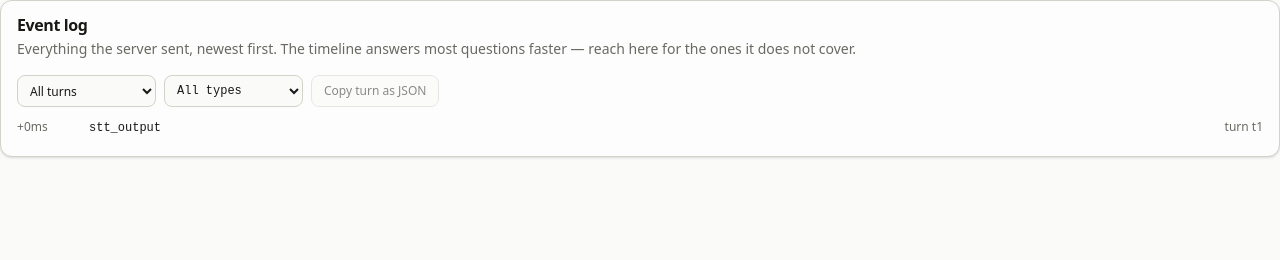
it: EventLog › expands one event's payload as JSON
This screenshot has width=1280, height=260.
What coordinates should you click on to do the following:
click the button "+0ms stt_output turn t1"
I would click on:
 (125, 128)
Its box is [17,115,1263,140].
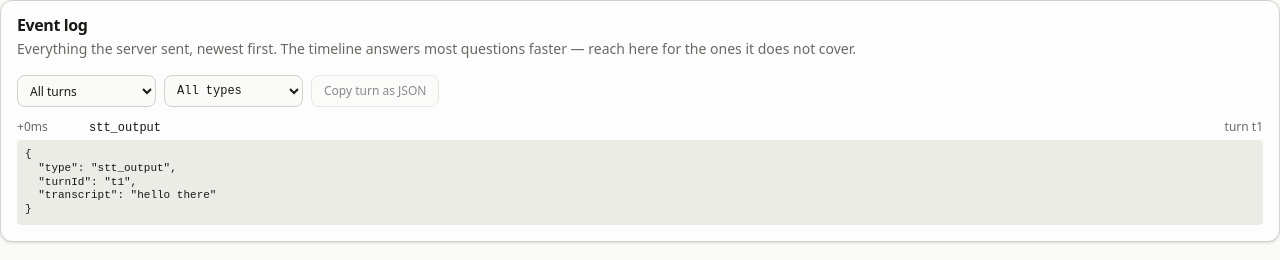
Result: the text with test id "event-payload" shows "\"transcript\": \"hello there\"" at [25,148,216,215]
